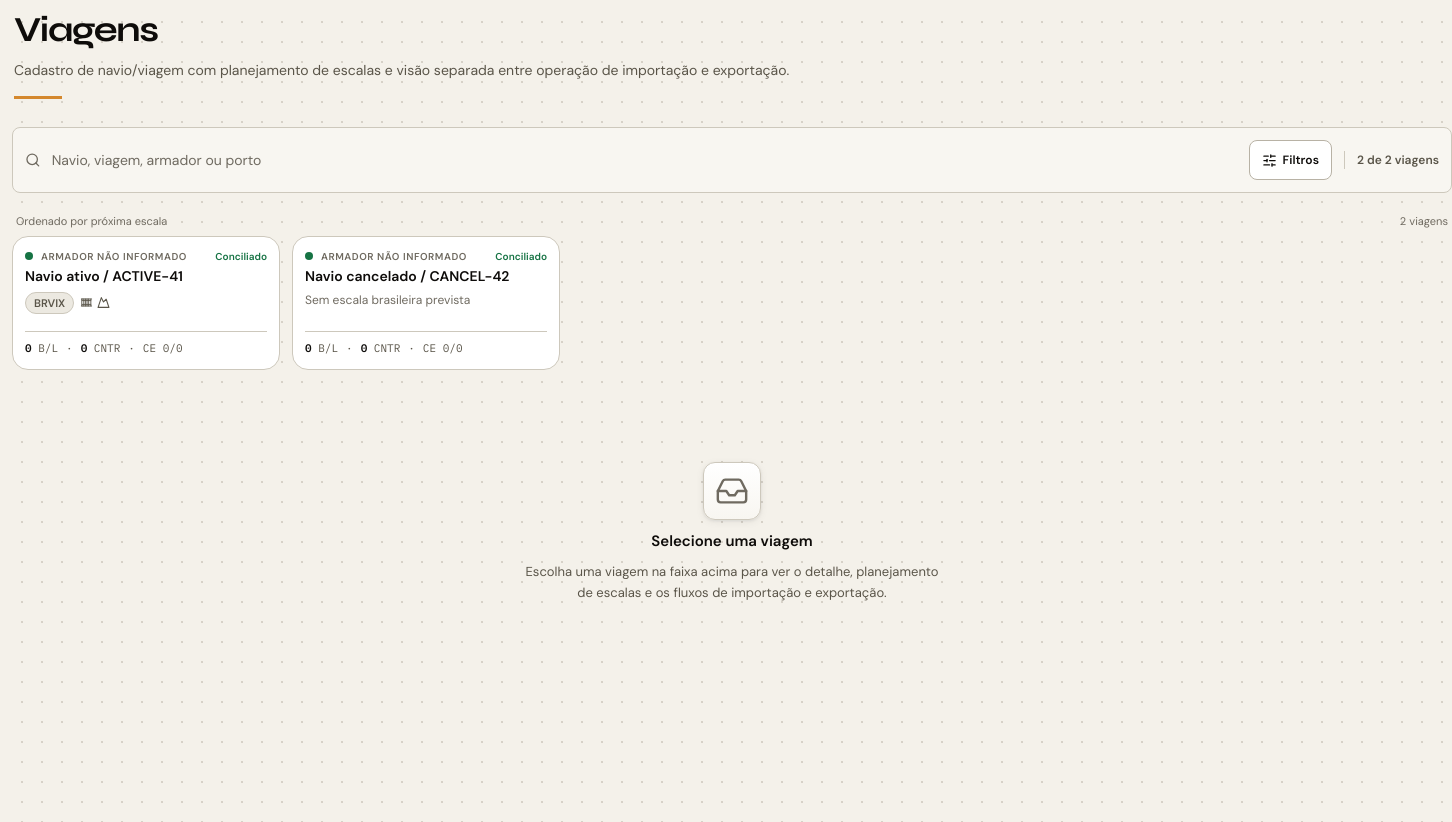
Scenario: não exibe badge no botão Filtros quando apenas busca textual está ativa
Type "ACTIVE" into the search field named "Busca".
click(644, 160); type("ACTIVE")  # box [51,140,1237,180]
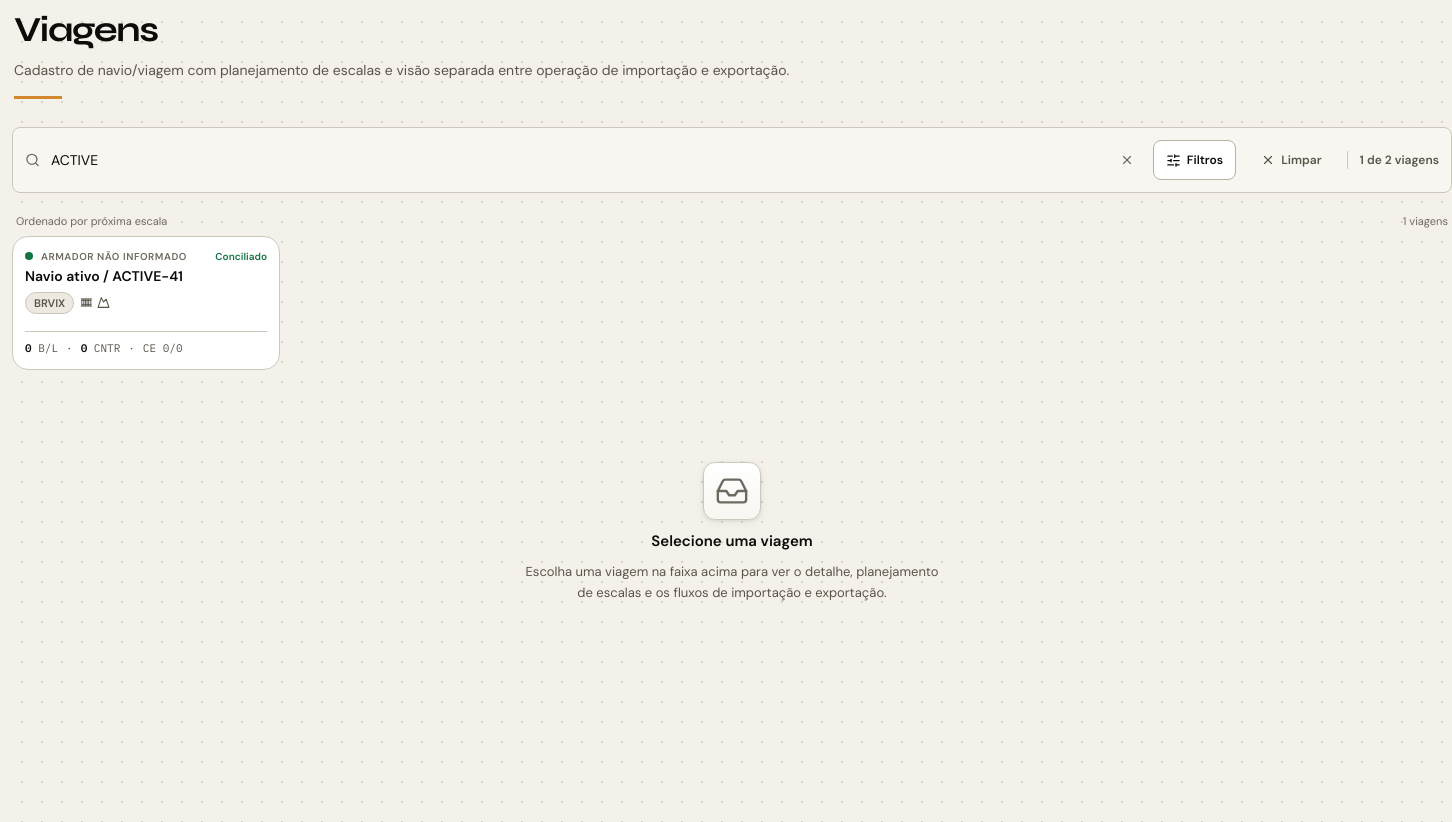
Check: the button "Filtros" is shown, box [1153,140,1236,180]
Check: the button "Limpar" is shown, box [1248,140,1335,180]
